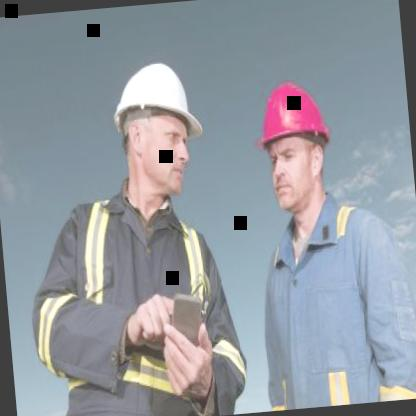helmet: (100, 42, 214, 213), (245, 66, 346, 226)
